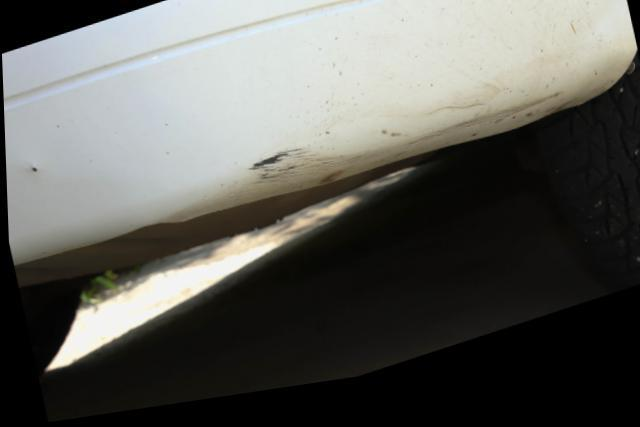scratch: (242, 105, 562, 198)
